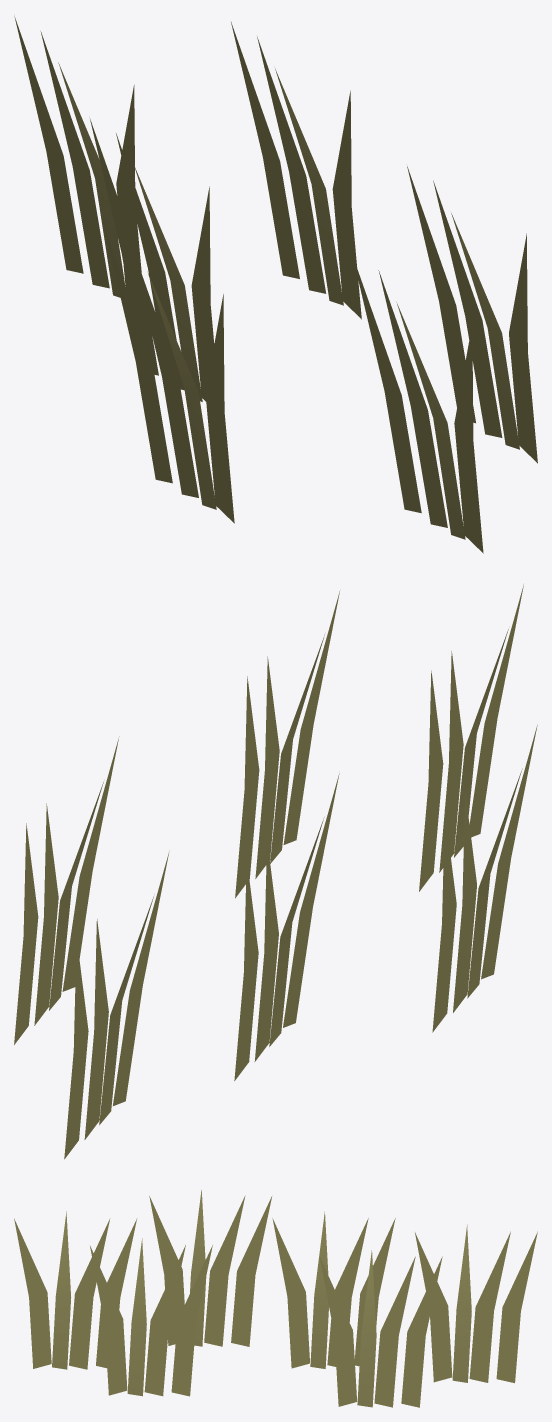
Rendered from bui_co.fbx.
3 renders of one model, top to bottom at view 1: azimuth 30°, elevation 25°; view 2: azimuth 150°, elevation 25°; view 3: azimuth 270°, elevation 25°, orthographic. The views are drawn at different scales.
Visible parts, largest first — view 1: bui_co; view 2: bui_co; view 3: bui_co.
Boxes of the visible parts, x1,y1,x2,y2 form: bui_co: (14, 16, 537, 553); bui_co: (14, 584, 537, 1159); bui_co: (14, 1190, 537, 1407).
Size of the model in its own units: 18.35 by 15.31 by 43.38.
